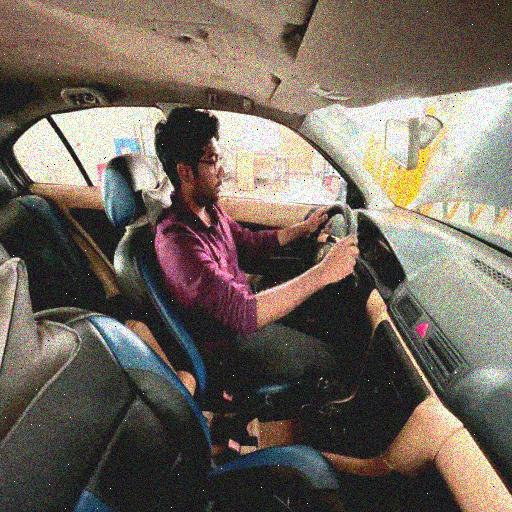Normal: (150, 105, 360, 357)
